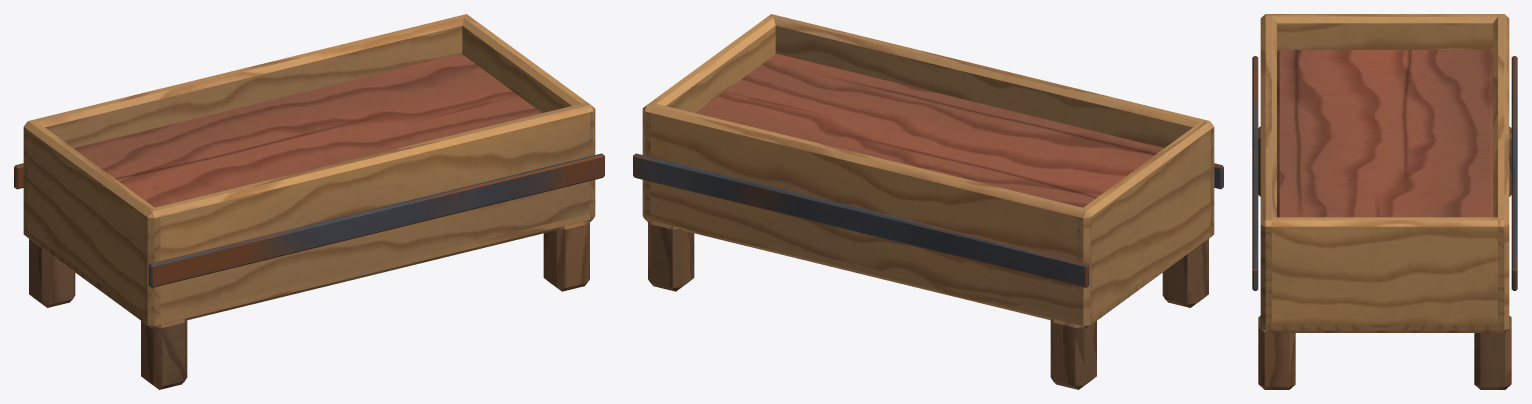
The model's file is suluk.glb.
3 renders of one model, left to right at view 1: azimuth 30°, elevation 25°; view 2: azimuth 150°, elevation 25°; view 3: azimuth 270°, elevation 25°, orthographic. The views are drawn at different scales.
Visible parts, largest first — view 1: suluk; view 2: suluk; view 3: suluk.
Part boxes in pixels (x1,y1,x2,y2): suluk: (14, 14, 604, 389); suluk: (633, 14, 1223, 389); suluk: (1252, 14, 1517, 389).
Size of the model in its own units: 1.22 by 0.46 by 0.64.
1 material, 1 textured.
